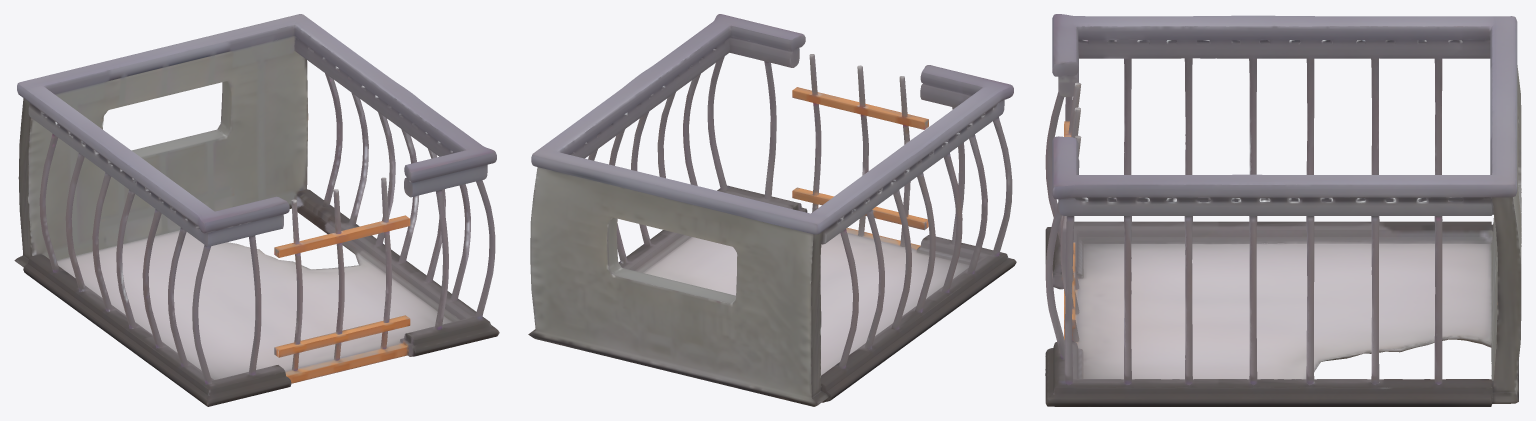
The model's file is base_basic_shaded.fbx.
3 renders of one model, left to right at view 1: azimuth 30°, elevation 25°; view 2: azimuth 150°, elevation 25°; view 3: azimuth 270°, elevation 25°, orthographic. The views are drawn at different scales.
Parts seen in each view (by area): view 1: model; view 2: model; view 3: model.
Boxes of the visible parts, left/top/right/bottom form: model: left=14, top=14, right=499, bottom=406; model: left=528, top=14, right=1016, bottom=406; model: left=1045, top=14, right=1521, bottom=406.
Bounding box in the file's own units: 169 × 99.99 × 190.
